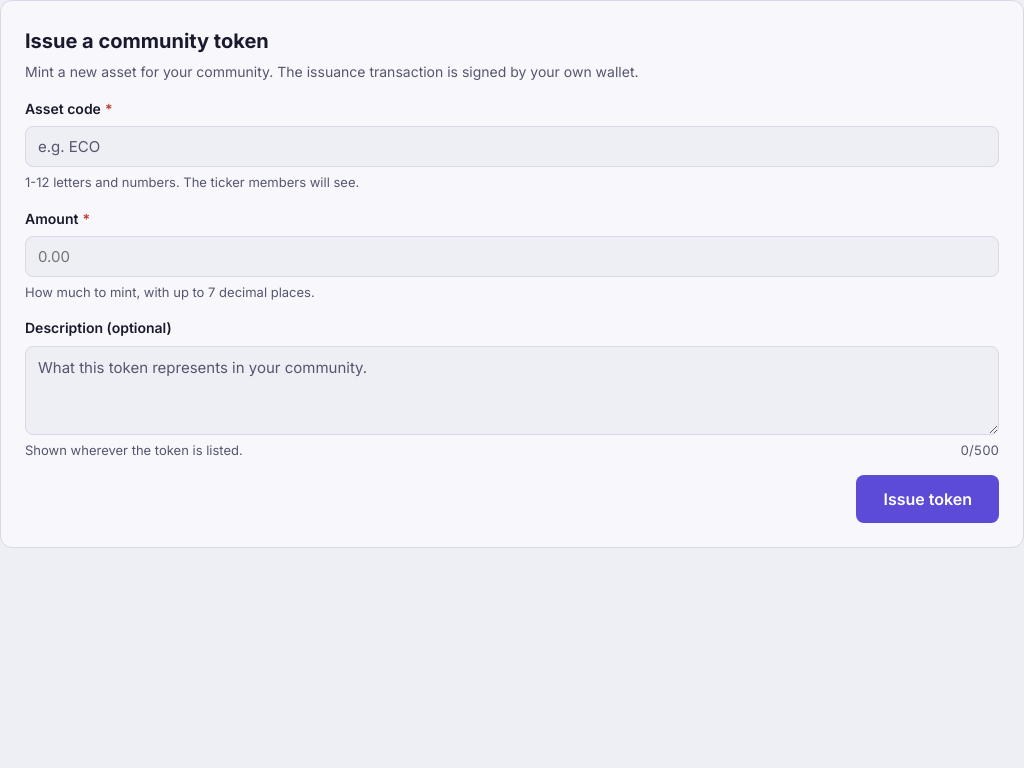
Test case: TokenIssuanceForm › validation › reports a bad asset code on the asset code field
Type "ECOP!" into the field labelled "Asset code*" at coordinates (512, 147), box [38,127,986,166]
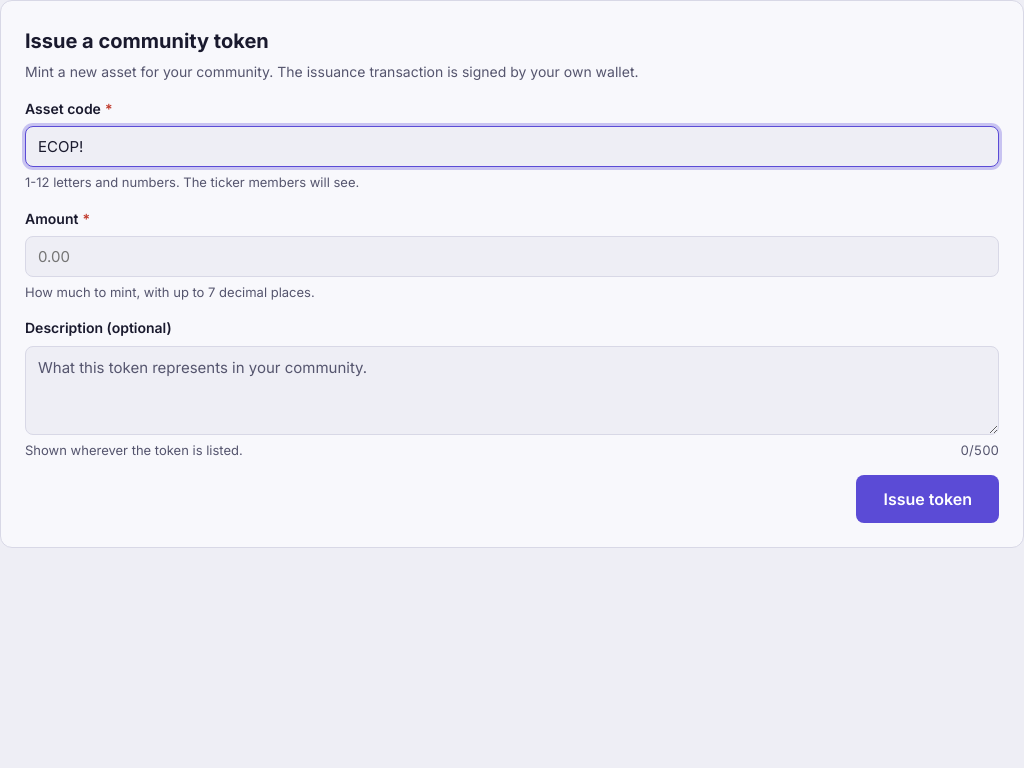
Click the button "Issue token" at coordinates (928, 499), box [856,475,999,523]
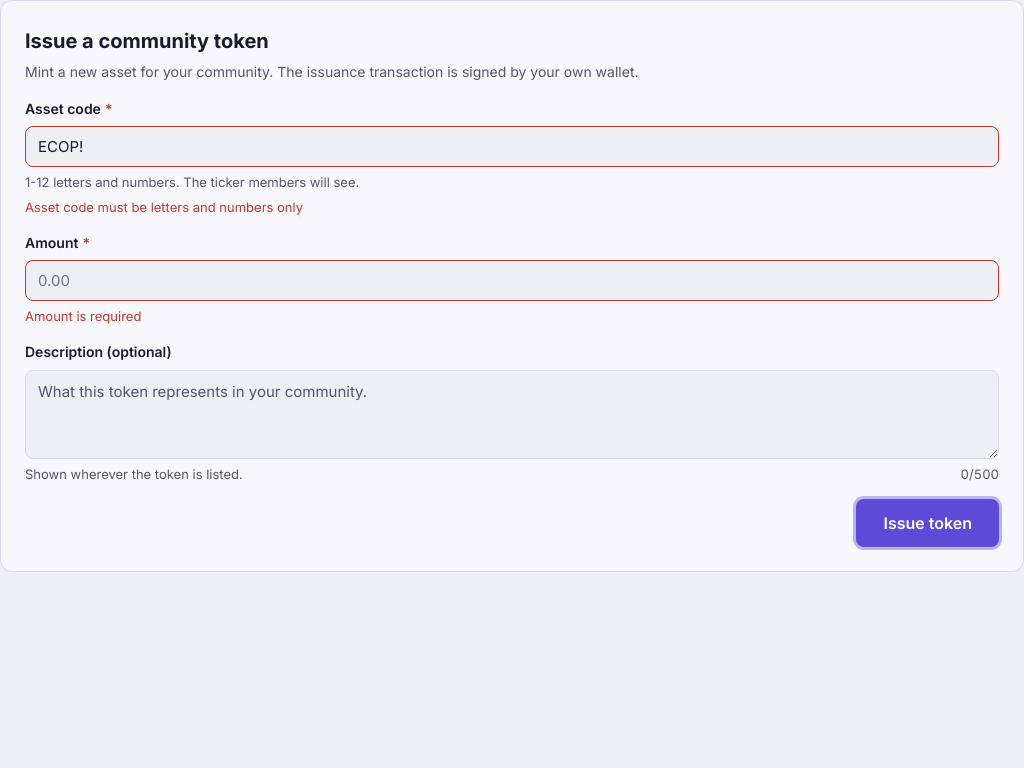
Expected: the text "Asset code must be letters and numbers only" is shown, [25,199,303,215]
